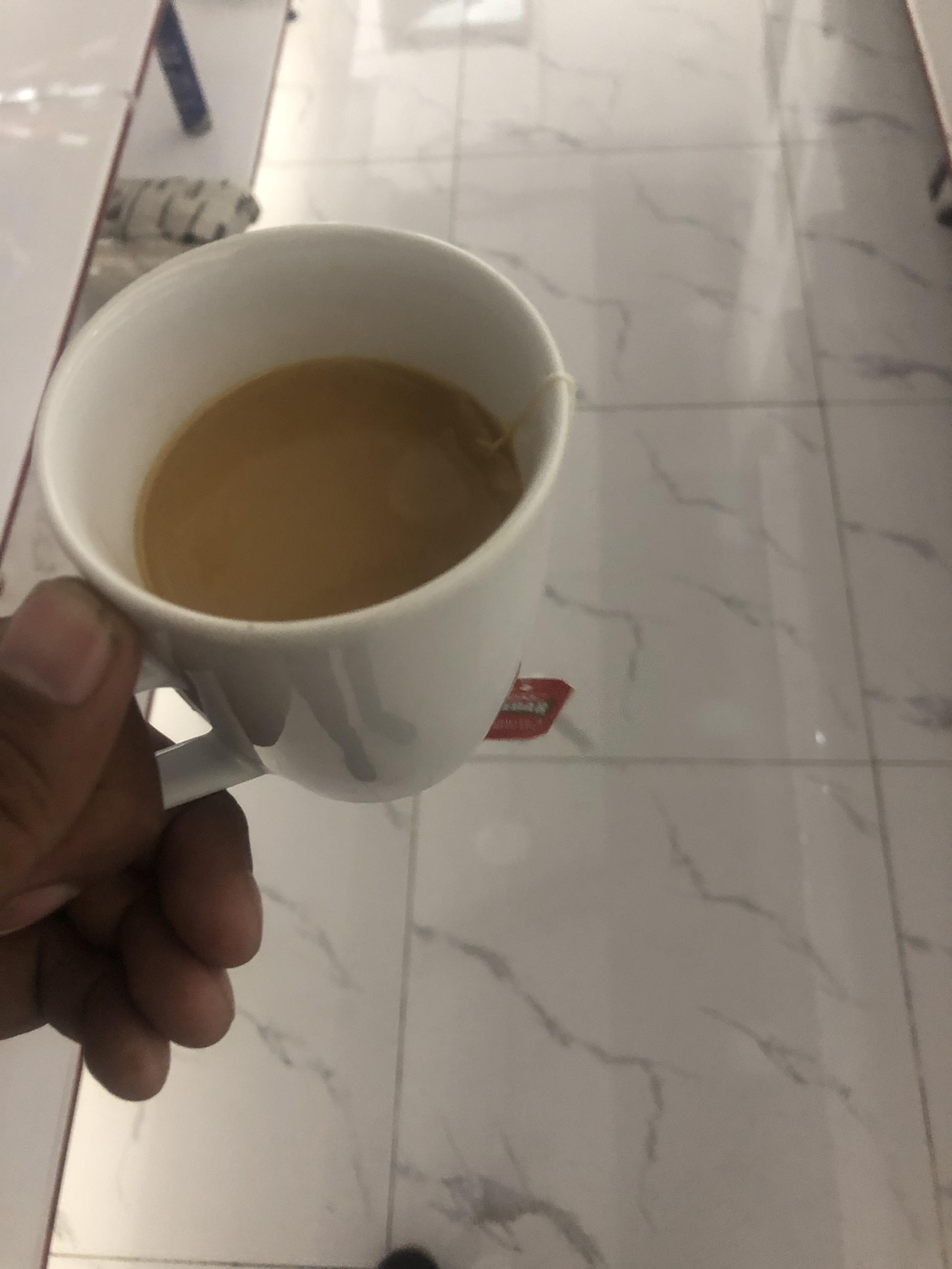cup-handle: (4, 218, 573, 849)
